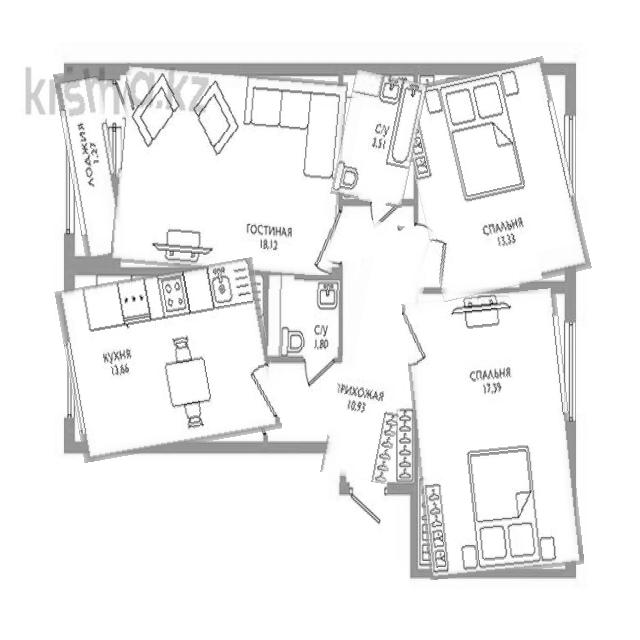balcony: (61, 69, 122, 262)
bathroom: (336, 72, 421, 205), (266, 274, 341, 361)
hallway: (332, 221, 423, 482)
kitchen: (61, 265, 276, 455)
living_room: (114, 67, 344, 276), (408, 292, 577, 576), (407, 63, 581, 295)
